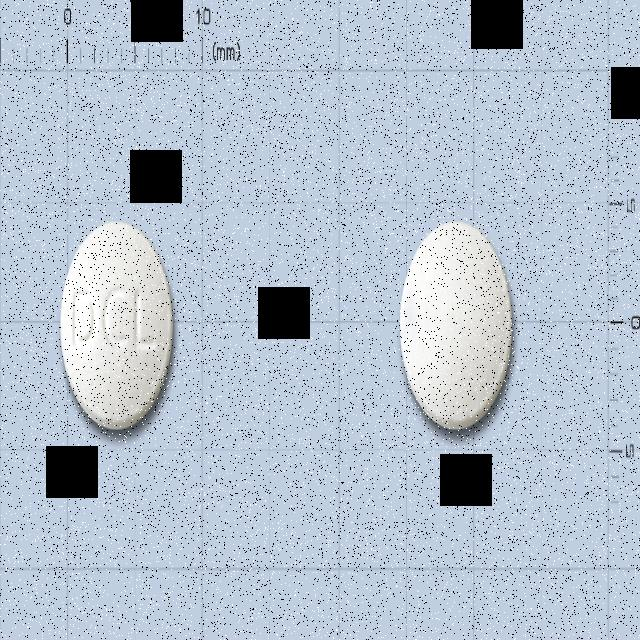Dongkoo Levofloxacin Hydrate Tab: (59, 219, 175, 432)
